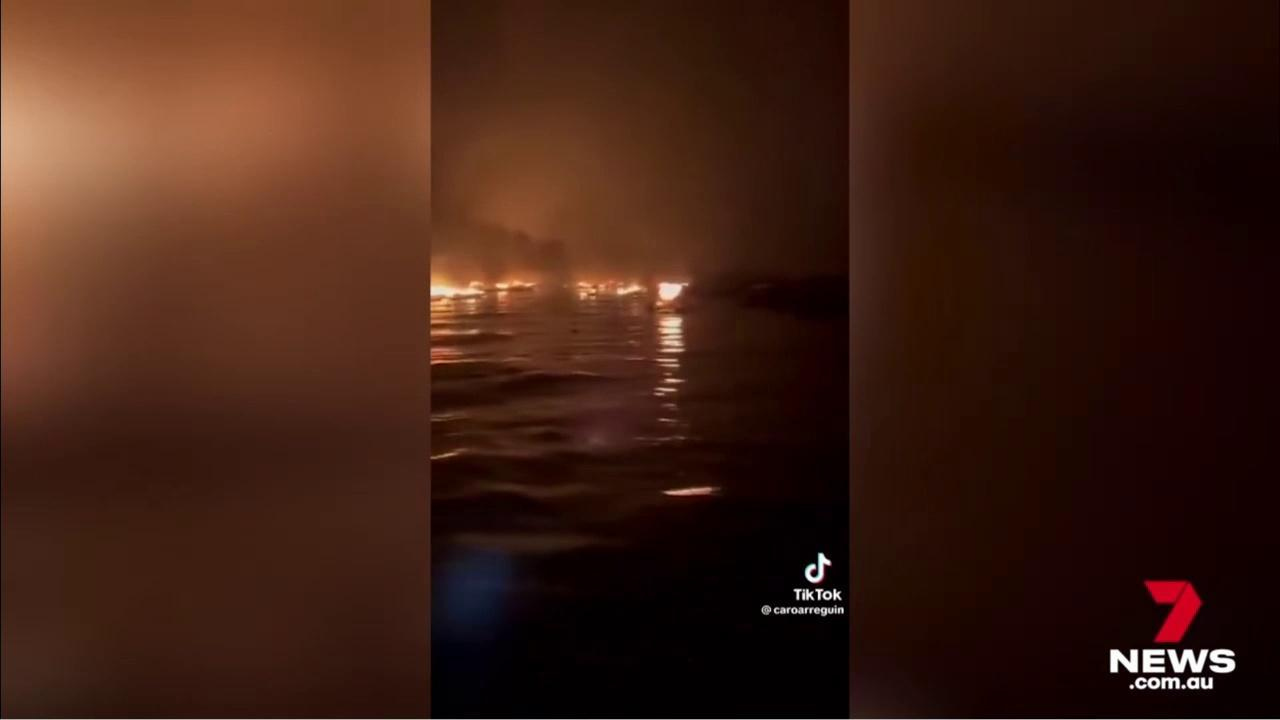fire: (576, 280, 648, 295), (429, 282, 490, 298), (655, 281, 692, 303), (494, 280, 537, 290)
smoke: (433, 2, 849, 281)
